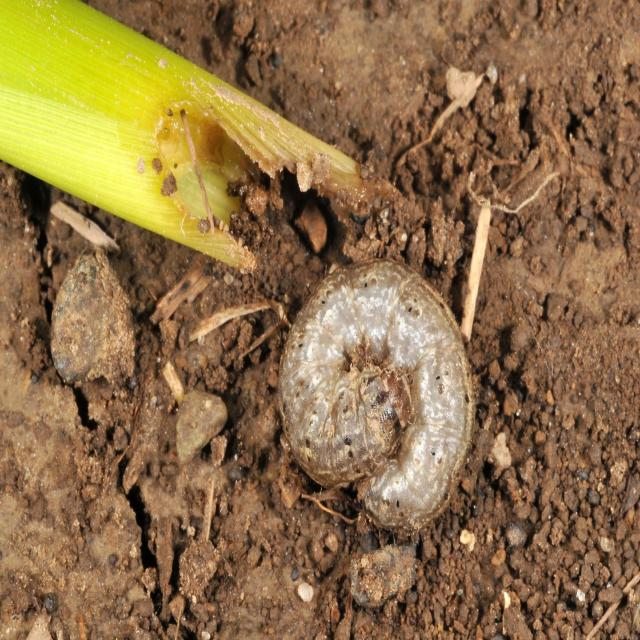Cutworm: (287, 256, 473, 539)
